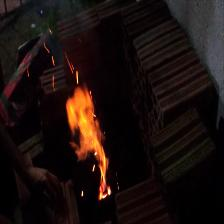fire: (55, 63, 128, 205)
